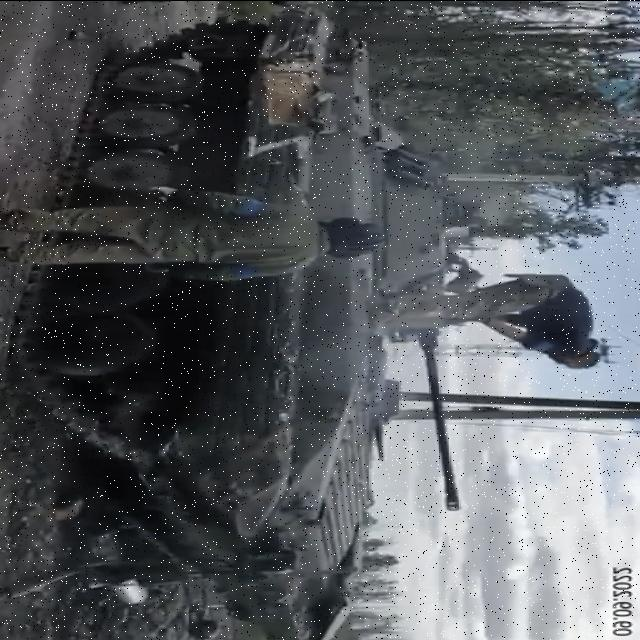APC-IFV: (7, 14, 493, 640)
